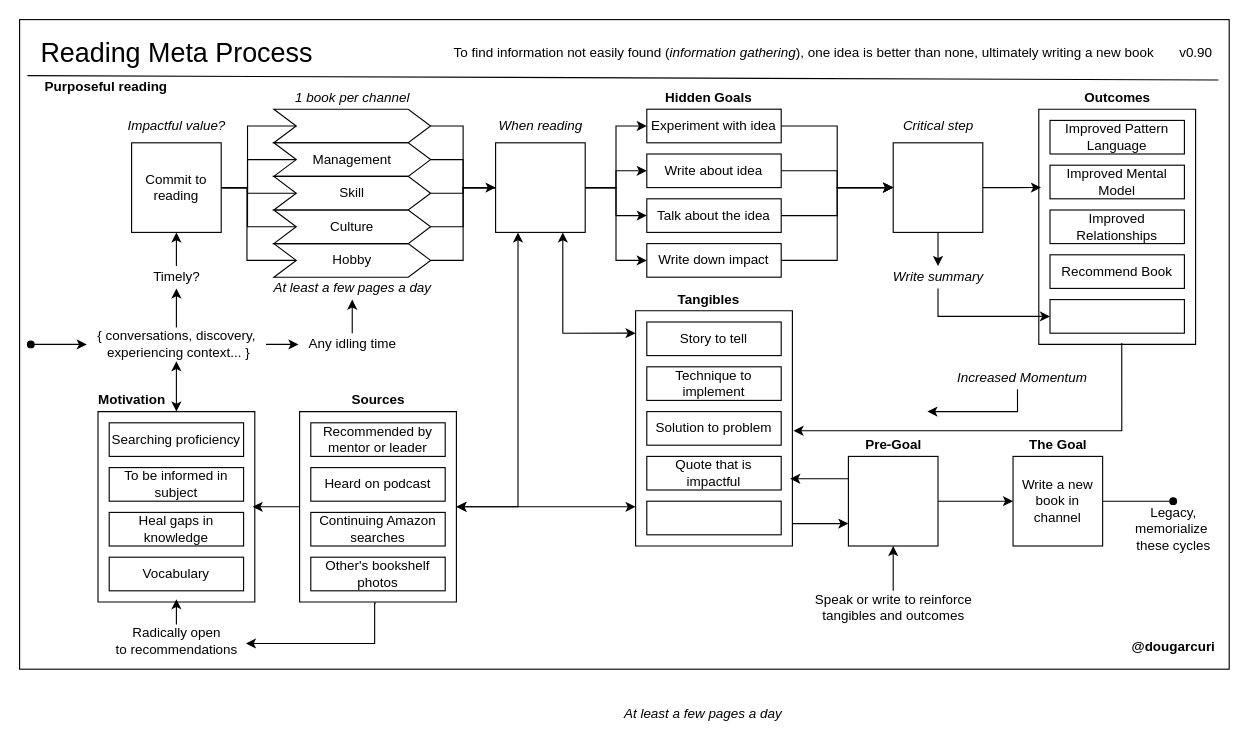
Image size: 1249x745. Some labels were removed from this diagram. The shapes that lost their labels are listed below. From the top down, each one's centre as x and y in pixels, then its label:
At [352,125]: "Team".
At [539,187]: "Flag what is interesting".
At [937,187]: "Complete the Book".
At [1116,315]: "Read More Books".
At [713,517]: "Idea that connects the disparate".
At [892,500]: "Mentor others".
